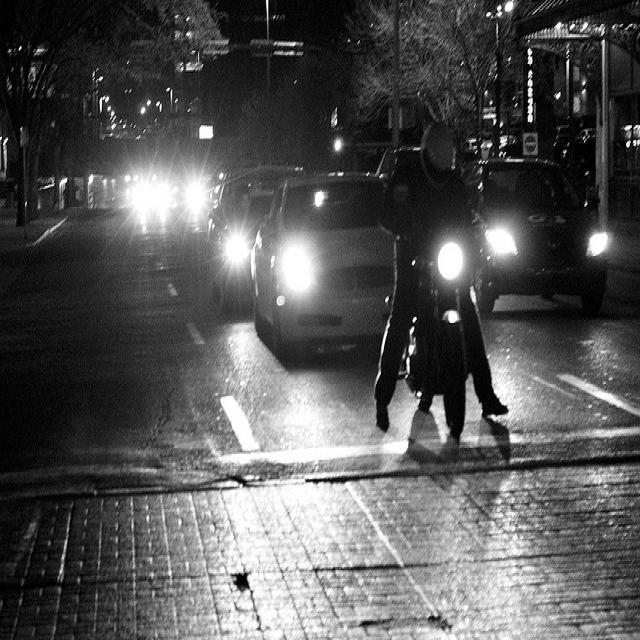Motorbike: (366, 225, 503, 485)
People: (392, 102, 472, 263)
car: (461, 128, 609, 337), (254, 170, 401, 368), (185, 117, 300, 311)
